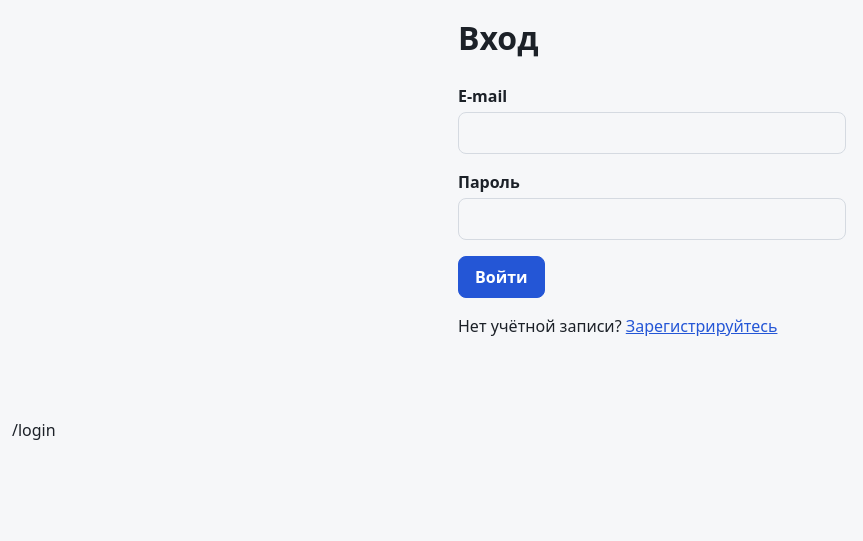
вход › 503: сообщение о недоступности
expect the heading "Вход" is shown: met, box 458,16 -> 538,59
Type "ivan@example.com" into the field labelled "E-mail" at {"x": 652, "y": 133}, box 458,112 -> 846,154
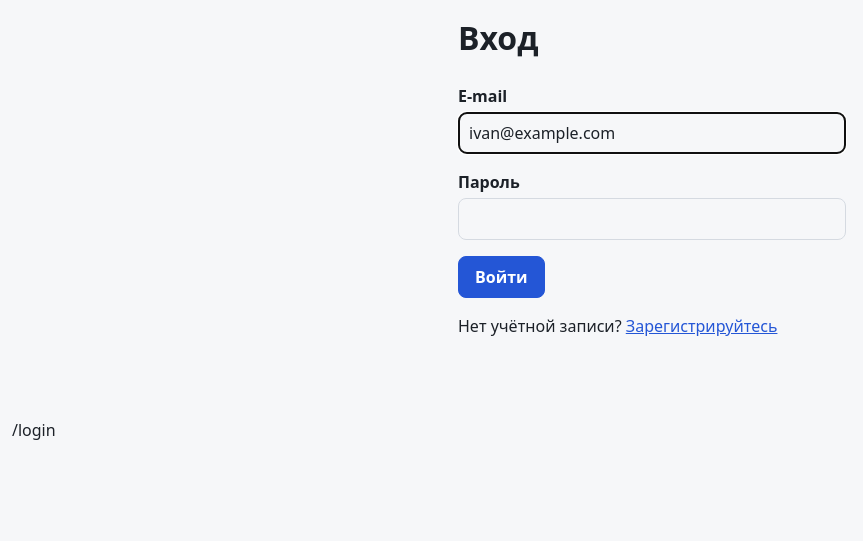
Type "password-123456" into the password field labelled "Пароль" at {"x": 652, "y": 219}, box 458,198 -> 846,240
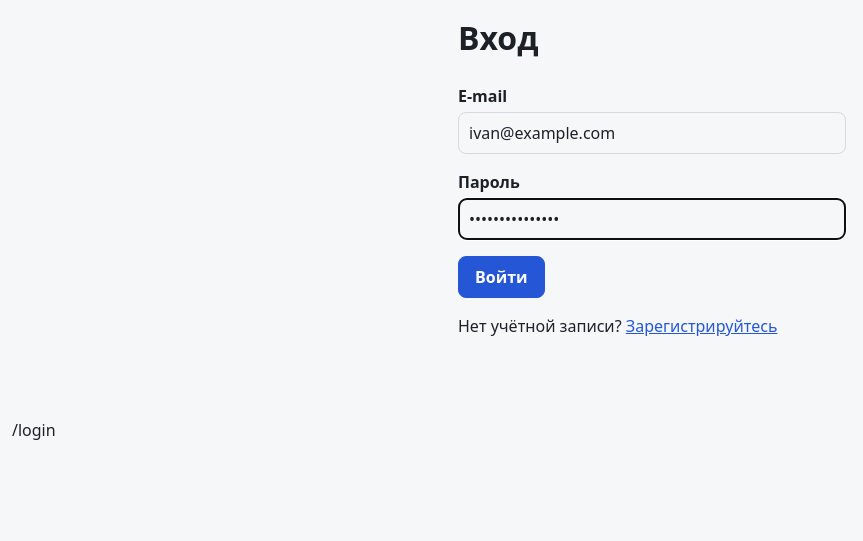
Click the button "Войти" at {"x": 501, "y": 277}, box 458,256 -> 544,298
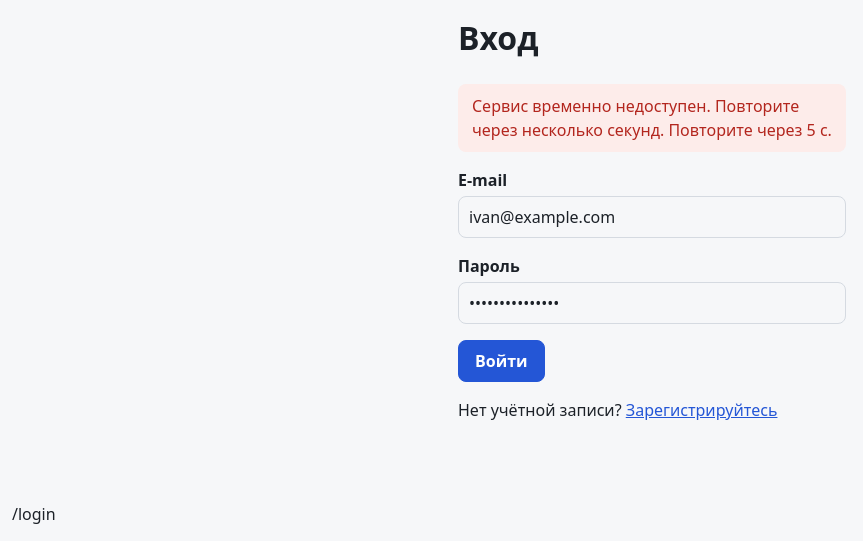
expect the message shows "Сервис временно недоступен": met, box 472,95 -> 832,141
